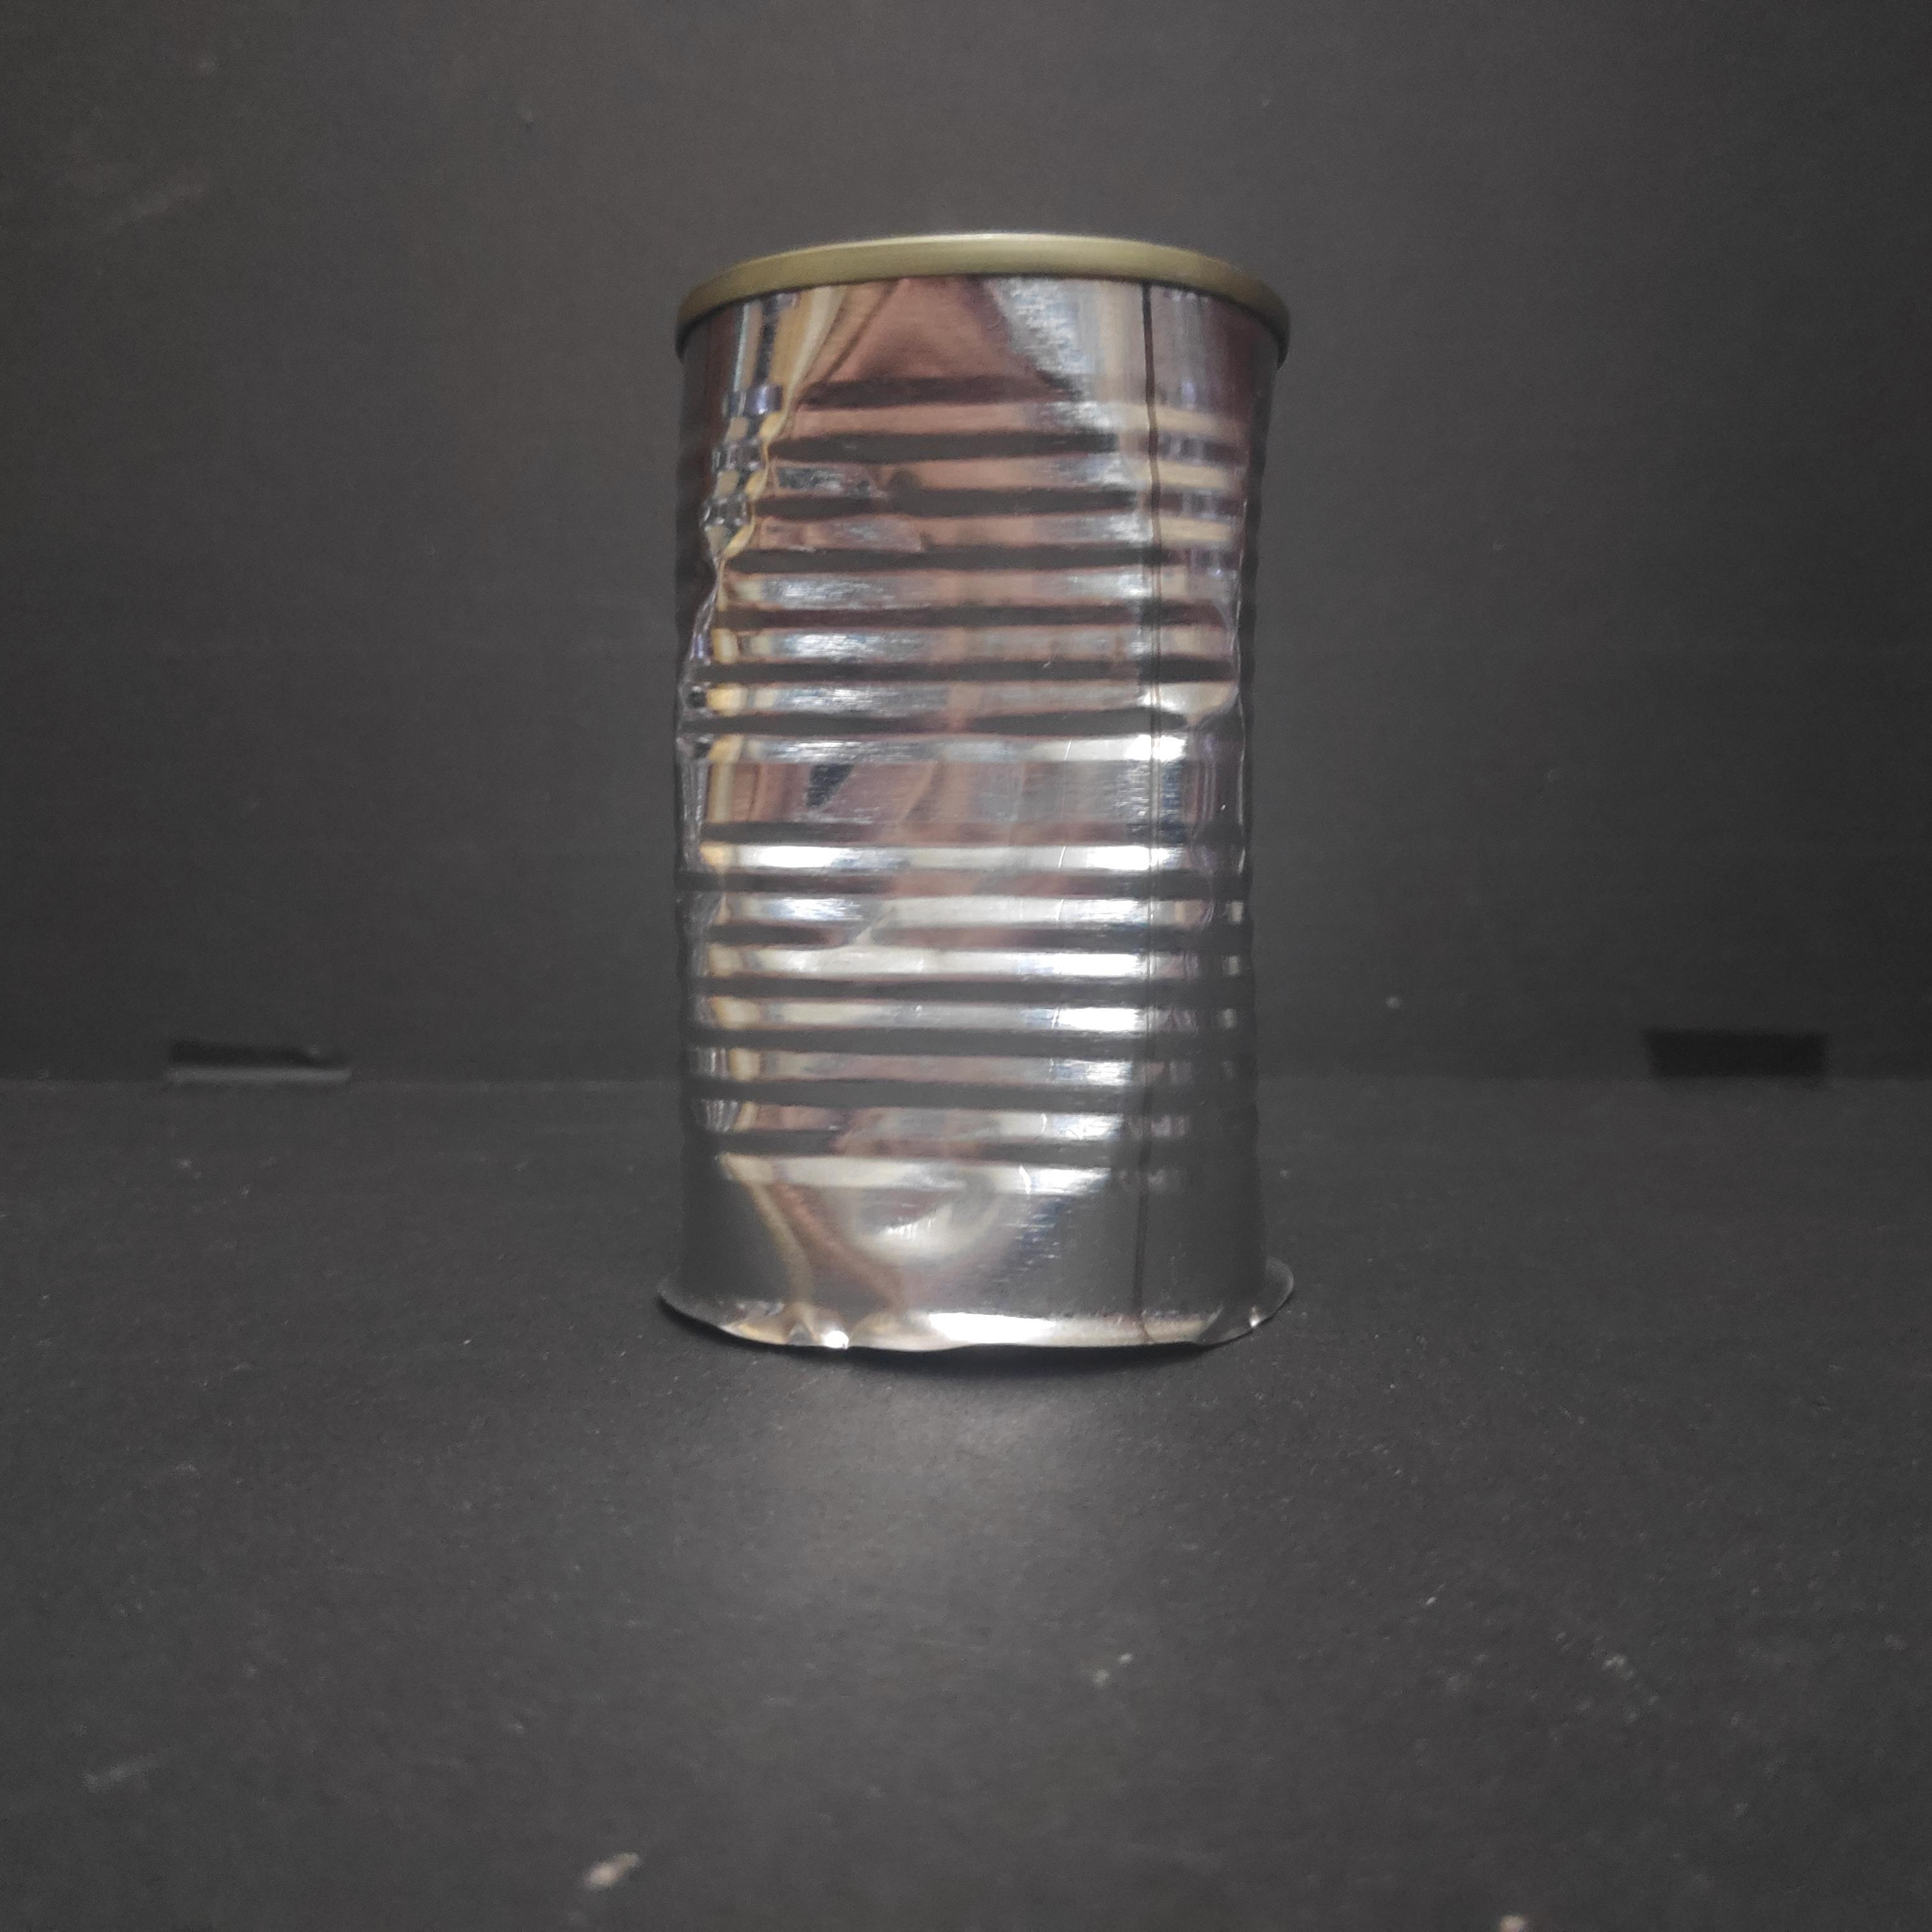Dented: (651, 214, 1325, 1399)
